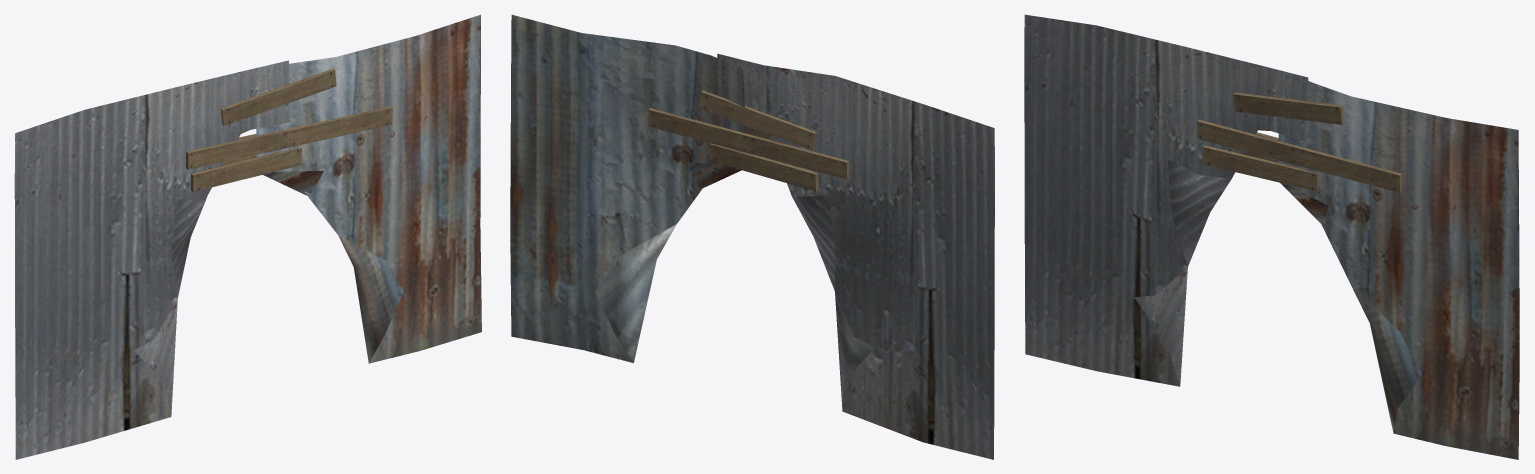
Rendered from Prop_FenceC.glb.
The picture shows the model from 3 angles, left to right: view 1: azimuth 30°, elevation 25°; view 2: azimuth 150°, elevation 25°; view 3: azimuth 330°, elevation 25°; orthographic projection. The views are drawn at different scales.
Visible parts, largest first — view 1: xiutz_fence_c; view 2: xiutz_fence_c; view 3: xiutz_fence_c.
Boxes of the visible parts, left/top/right/bottom form: xiutz_fence_c: left=14, top=14, right=481, bottom=459; xiutz_fence_c: left=510, top=14, right=994, bottom=459; xiutz_fence_c: left=1024, top=14, right=1519, bottom=459.
Bounding box in the file's own units: 5.85 × 3.99 × 0.5767.
Materials: 1 (1 with a texture image).
